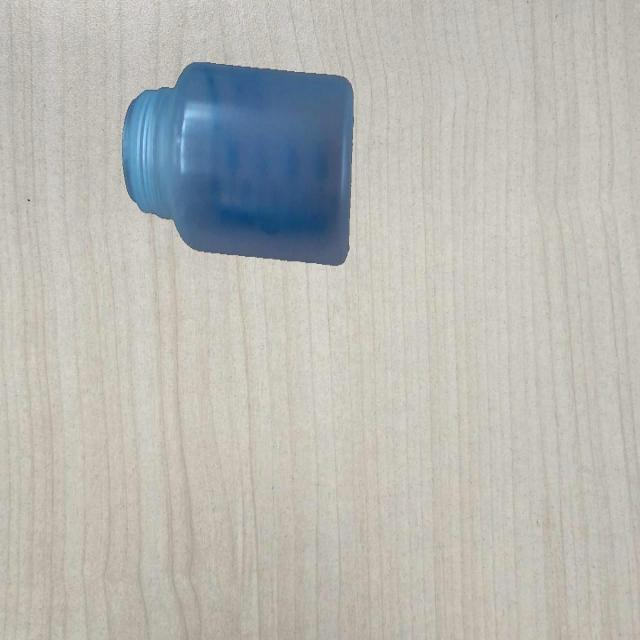bottle: (121, 58, 355, 268)
